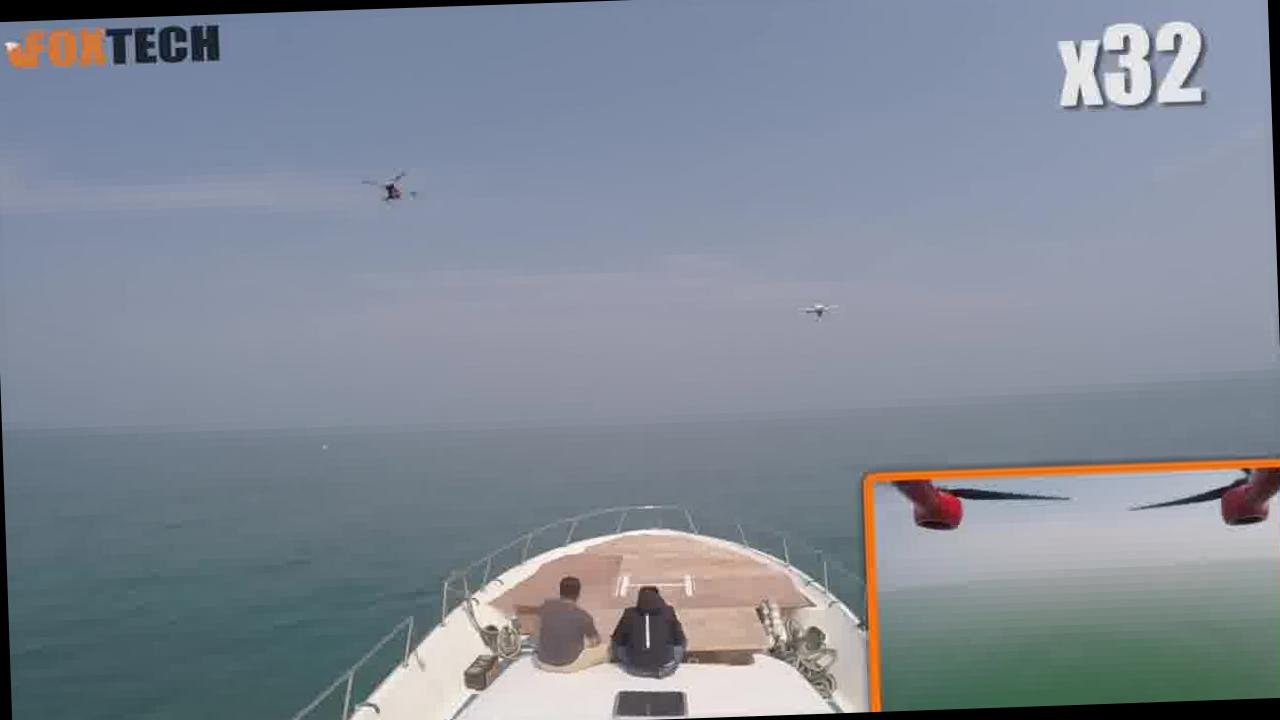drone: (348, 159, 447, 218), (794, 290, 845, 332)
